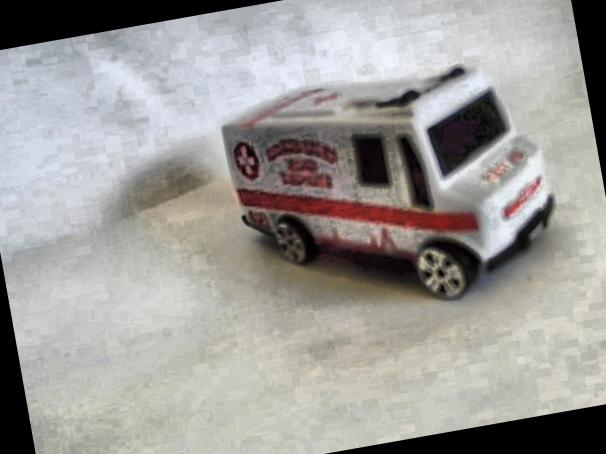ambulance: (215, 47, 567, 334)
